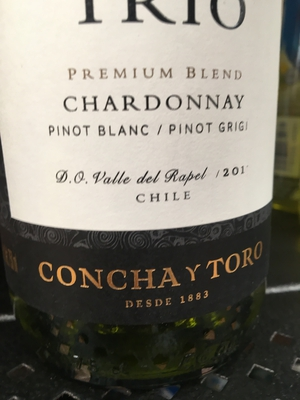trio chardonnay: (2, 1, 288, 364)
